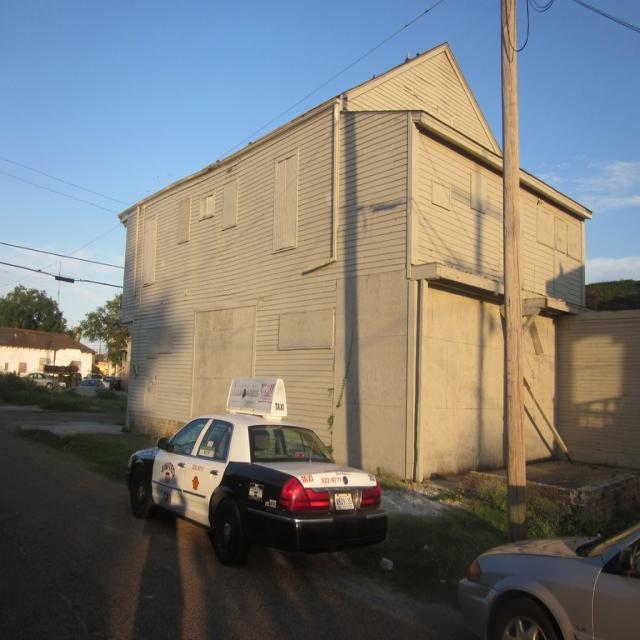car: (127, 409, 385, 561)
